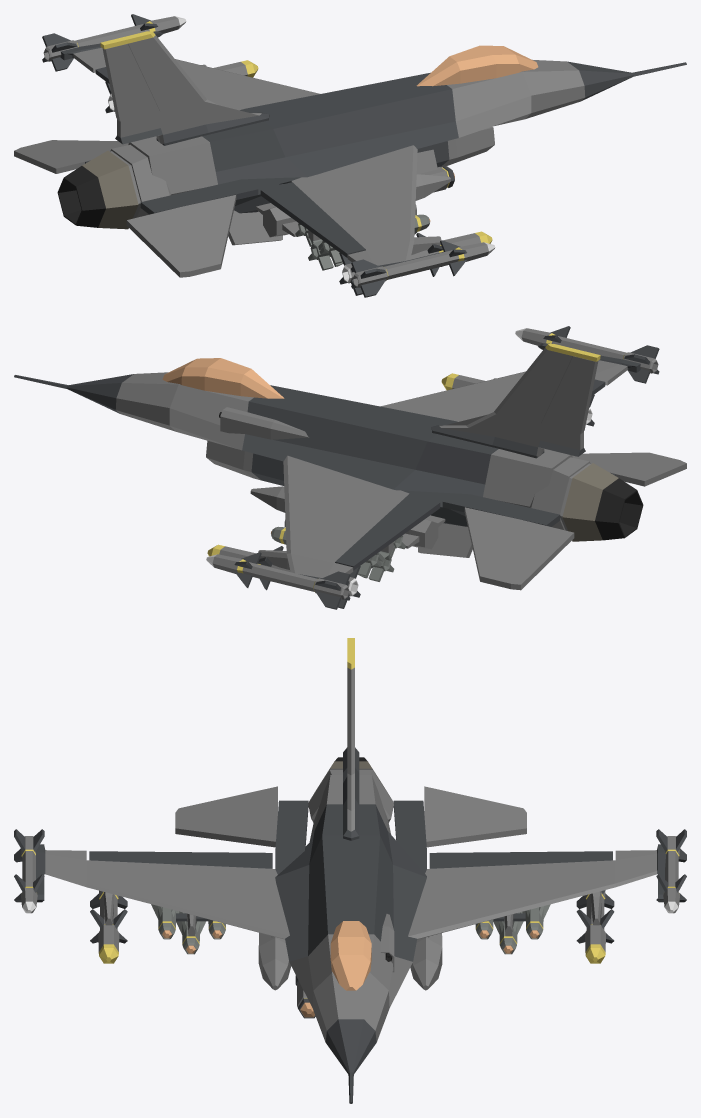
Rendered from enemy.gltf.
The picture shows the model from 3 angles, top to bottom: view 1: azimuth 30°, elevation 25°; view 2: azimuth 150°, elevation 25°; view 3: azimuth 270°, elevation 25°; orthographic projection. The views are drawn at different scales.
Parts seen in each view (by area): view 1: Cylinder.001; view 2: Cylinder.001; view 3: Cylinder.001.
Boxes of the visible parts, x1,y1,x2,y2 form: Cylinder.001: (14,14,686,297); Cylinder.001: (14,326,686,609); Cylinder.001: (14,638,686,1103).
Bounding box in the file's own units: 922 × 319 × 838.
